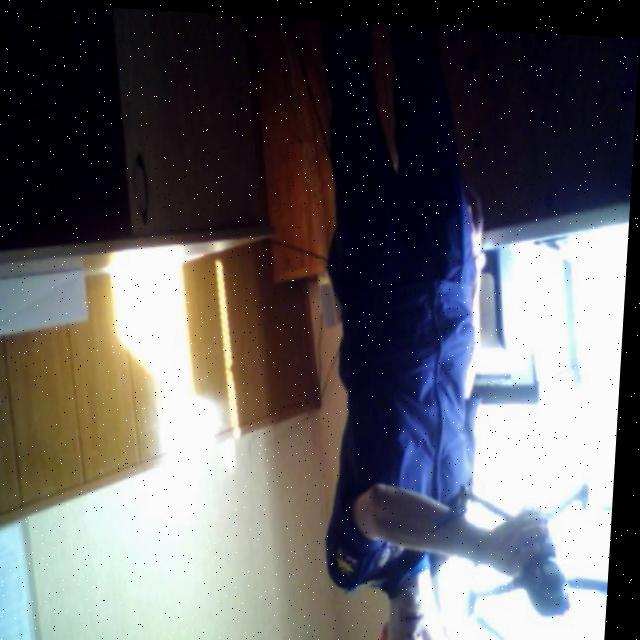drone: (424, 456, 619, 640)
